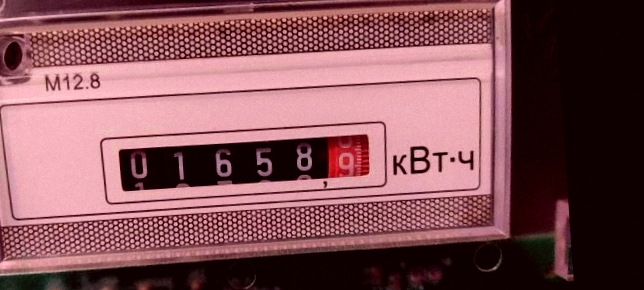0: (127, 148, 149, 179)
1: (170, 148, 190, 181)
5: (252, 144, 275, 176)
6: (212, 144, 234, 178)
8: (293, 138, 315, 172)
9: (334, 149, 357, 179)
screen: (90, 109, 395, 213)
